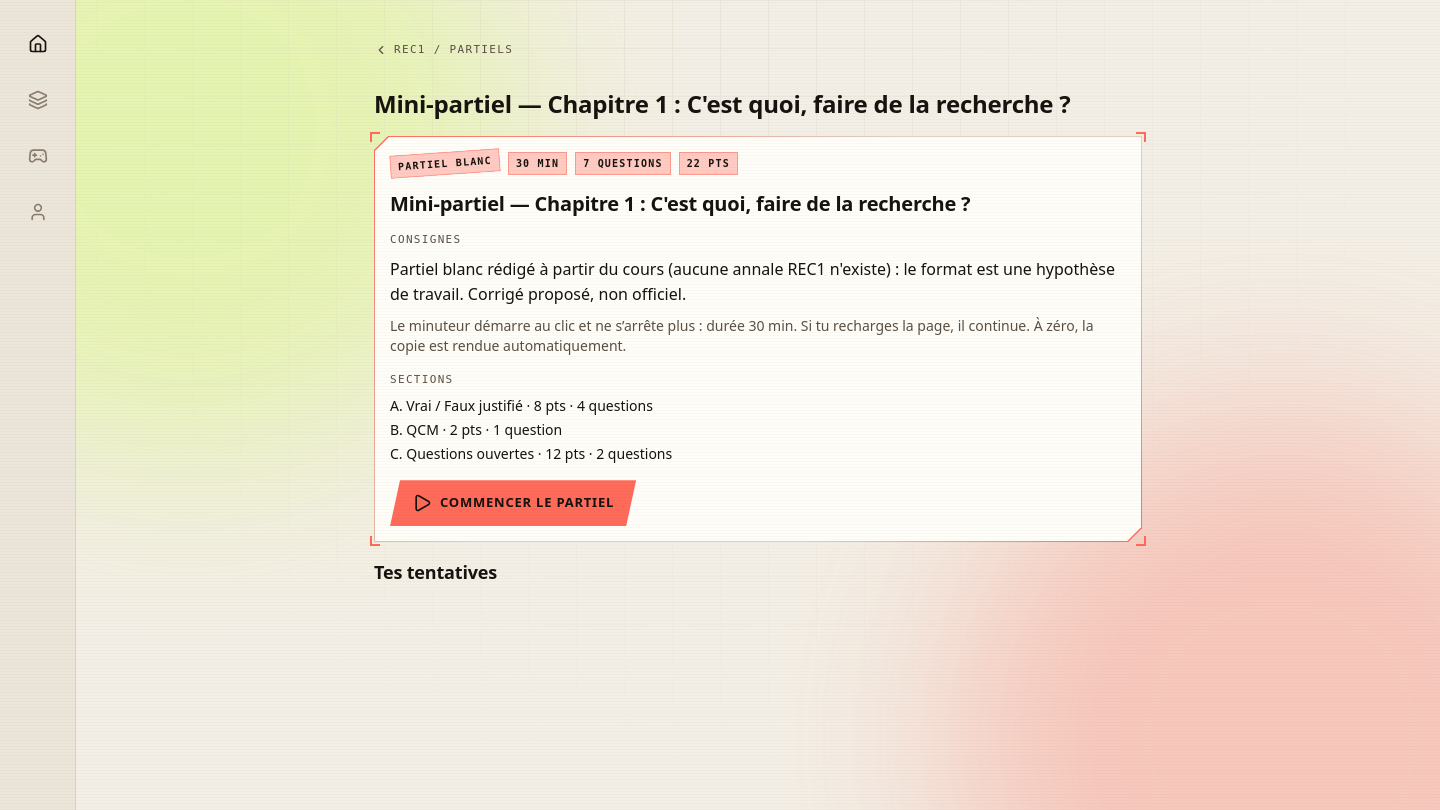
Test case: passage d’un partiel REC1 de bout en bout › abandon : la copie et le minuteur sont effacés
Click the button "Commencer le partiel" at (513, 503), box [390,480,636,526]
(page scrolled)
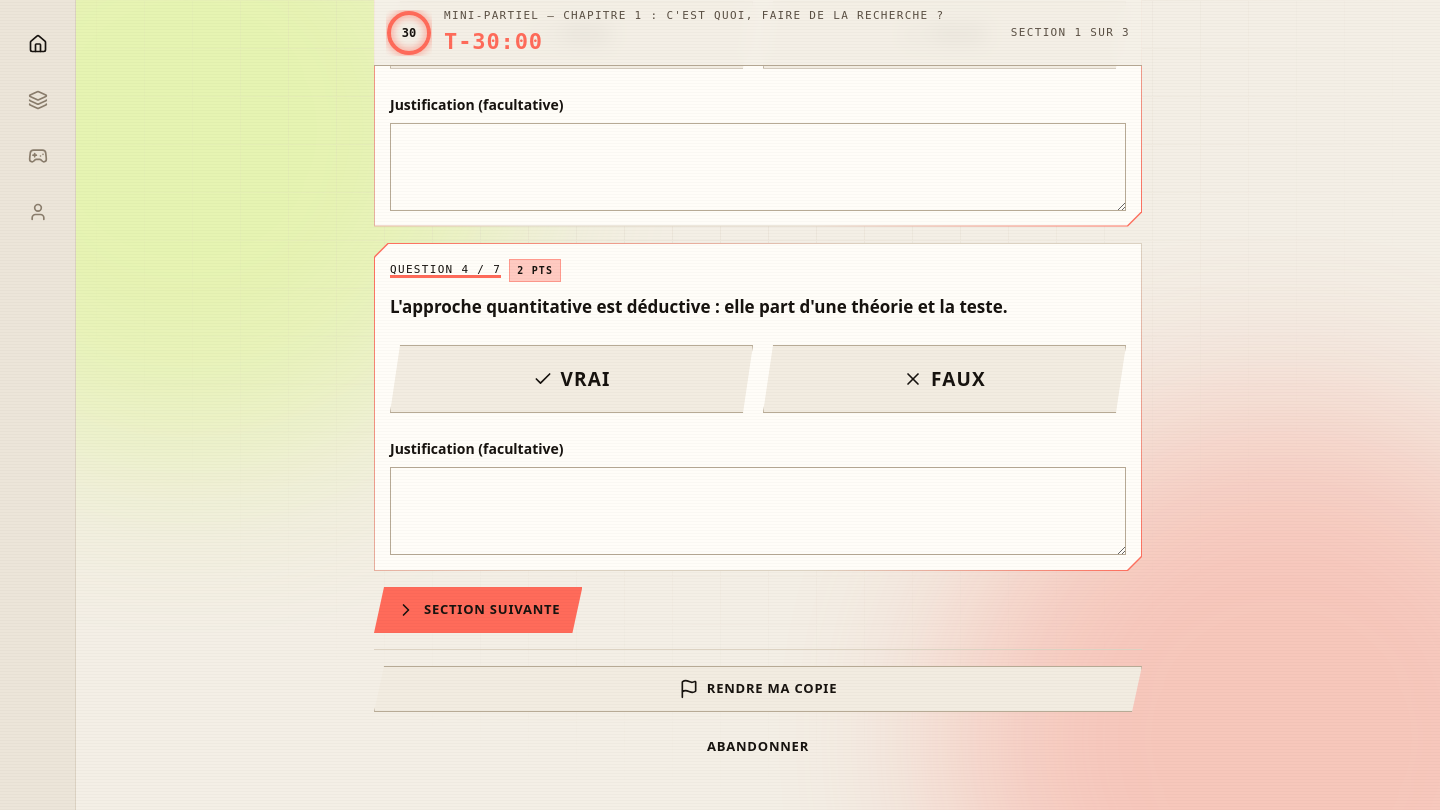
Click the button "Abandonner" at (758, 747), box [374,724,1142,770]
(page scrolled)
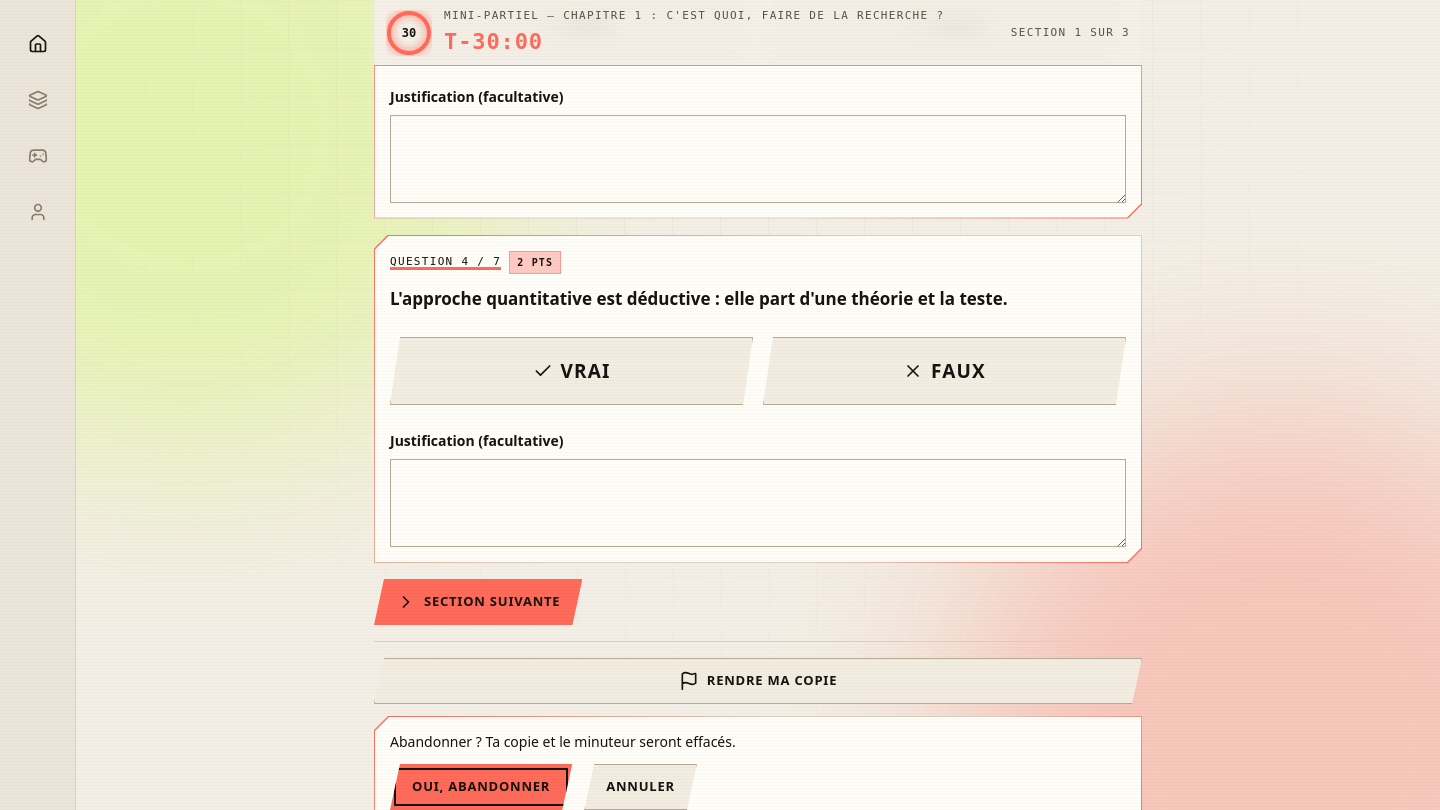
Click the button "Oui, abandonner" at (481, 787), box [390,764,572,809]
(page scrolled)
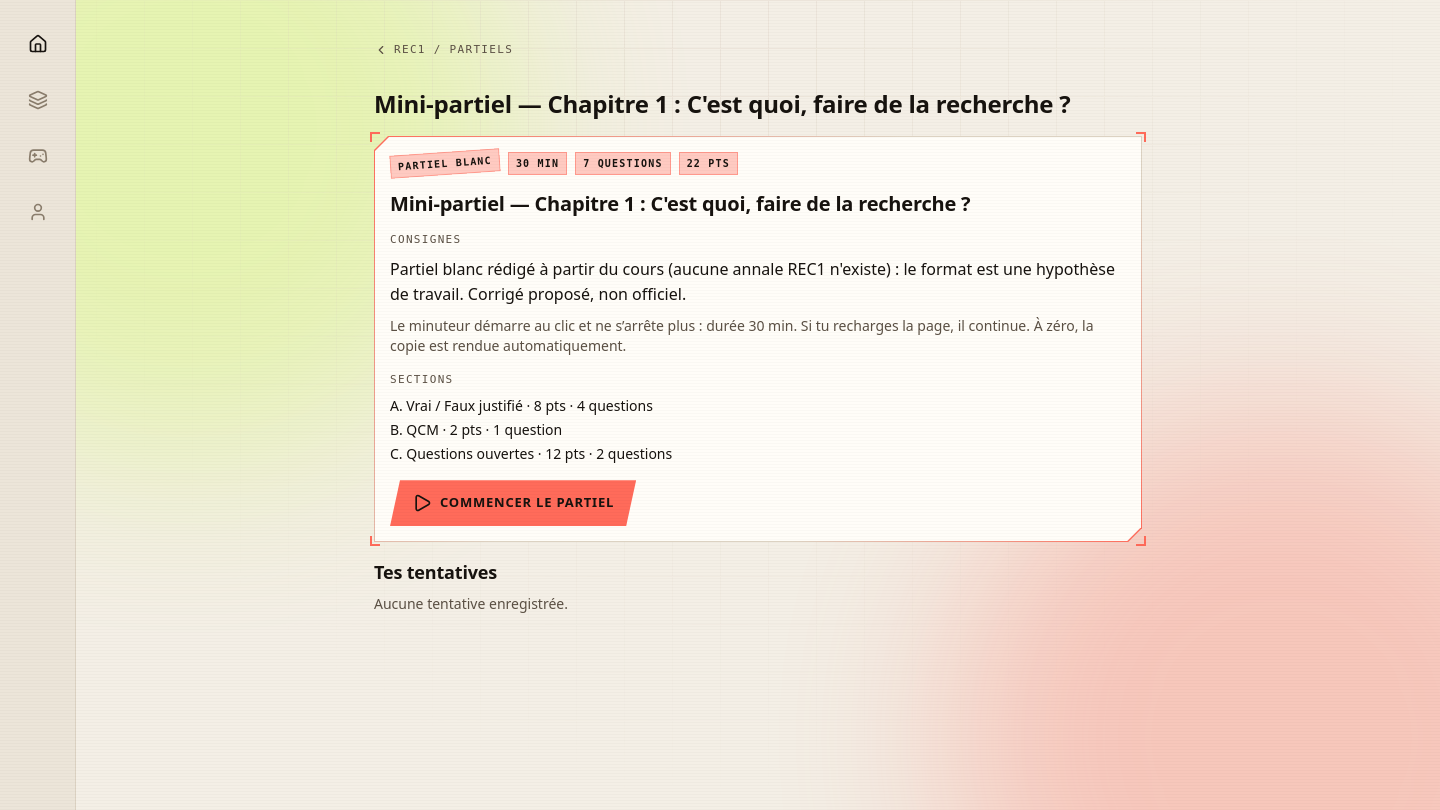
Check: the button "Commencer le partiel" is shown, box [390,480,636,526]
